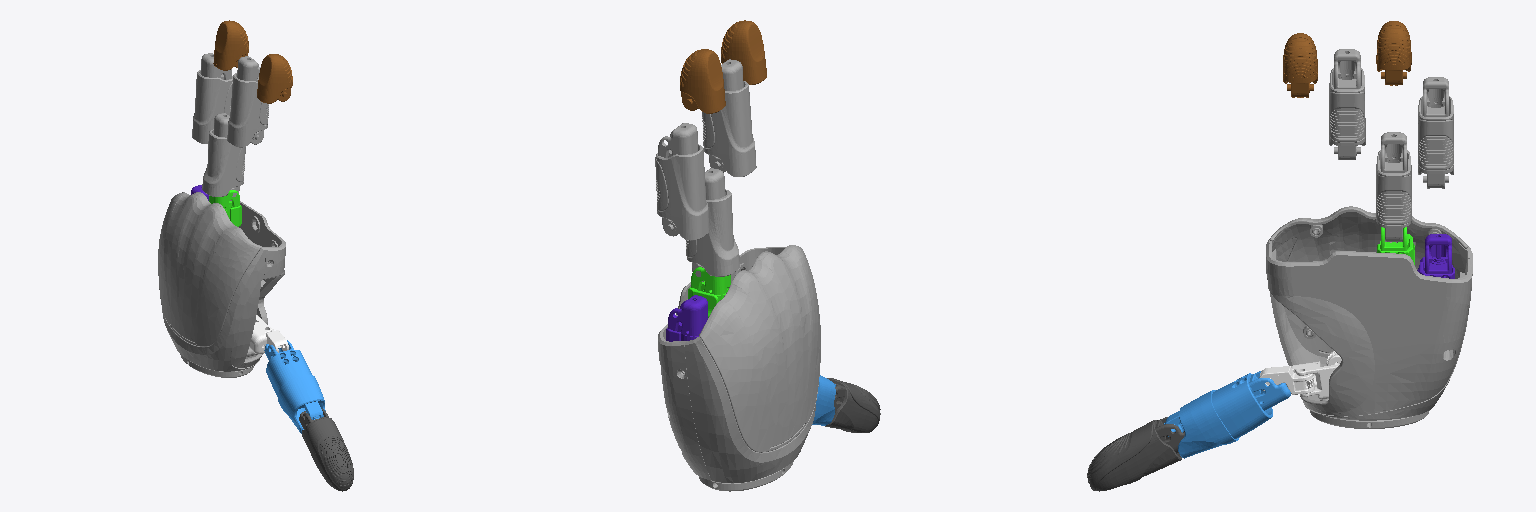
The robot description file, URDF, robot "linkerhand_O30i_left_draft_v8_thumb_calibrated":
<?xml version='1.0' encoding='utf-8'?>
<robot name="linkerhand_O30i_left_draft_v8_thumb_calibrated">
  <!-- Mirror of accepted right draft_v8 thumb calibration across Y=0. Zero, travel and base mounting corrections are reflected together. Joint limits and SDK 0..255 linear mapping are identical to the right hand. Paired mirrored STL files are in meshes; supplied meshes are preserved. -->
  <link name="hand_base_link">
    <inertial>
      <origin xyz="-0.000205958913345674 0.0036188278010726399 0.046864317399317103" rpy="-0 0 -0" />
      <mass value="0.14359" />
      <inertia ixx="1.88028388E-04" ixy="1.7209298200000001e-06" ixz="-1.04409274E-05" iyy="9.30828141E-05" iyz="7.8262007999999992e-06" izz="1.07409180E-04" />
    </inertial>
    <visual>
      <origin xyz="0 -0 0" rpy="-0 0 -0" />
      <geometry>
        <mesh filename="meshes/hand_base_link.STL" />
      </geometry>
      <material name="">
        <color rgba="0.6902 0.6902 0.6902 1" />
      </material>
    </visual>
    <collision>
      <origin xyz="0 -0 0" rpy="-0 0 -0" />
      <geometry>
        <mesh filename="meshes/hand_base_link.STL" />
      </geometry>
    </collision>
  </link>
  <link name="thumb_metacarpals_base1">
    <inertial>
      <origin xyz="-0.010568785207338 -0.0068038984448099702 -0.0025009660529372599" rpy="-0 0 -0" />
      <mass value="0.0265" />
      <inertia ixx="1.7467491929e-06" ixy="2.9104436794e-07" ixz="-1.8568012190e-07" iyy="1.8654637315e-06" iyz="2.9174054644999998e-07" izz="2.5335744004e-06" />
    </inertial>
    <visual>
      <origin xyz="0 -0 0" rpy="-0 0 -0" />
      <geometry>
        <mesh filename="meshes/thumb_metacarpals_base1.STL" />
      </geometry>
      <material name="">
        <color rgba="1 1 1 1" />
      </material>
    </visual>
    <collision>
      <origin xyz="0 -0 0" rpy="-0 0 -0" />
      <geometry>
        <mesh filename="meshes/thumb_metacarpals_base1.STL" />
      </geometry>
    </collision>
  </link>
  <joint name="thumb_cmc_roll" type="revolute">
    <origin xyz="0.016863194376841441 -0.013541806637261389 0.024293269540780069" rpy="0.1528711128406792 -0.074140711782733959 0.0071398087914040231" />
    <parent link="hand_base_link" />
    <child link="thumb_metacarpals_base1" />
    <axis xyz="-1 0 -0" />
    <limit lower="0" upper="0.969565192376618" effort="0.5" velocity="1.7052" />
  </joint>
  <link name="thumb_metacarpals_base2">
    <inertial>
      <origin xyz="0.000380684134119496 0.0021173872826980899 0.0065793452473019301" rpy="-0 0 -0" />
      <mass value="0.0355" />
      <inertia ixx="1.3100602323e-06" ixy="2.6896858159999999e-09" ixz="7.2091170680e-09" iyy="1.2087410902e-06" iyz="-2.5929588125999998e-07" izz="5.0771300324e-07" />
    </inertial>
    <visual>
      <origin xyz="0 -0 0" rpy="-0 0 -0" />
      <geometry>
        <mesh filename="meshes/thumb_metacarpals_base2.STL" />
      </geometry>
      <material name="">
        <color rgba="1 1 1 1" />
      </material>
    </visual>
    <collision>
      <origin xyz="0 -0 0" rpy="-0 0 -0" />
      <geometry>
        <mesh filename="meshes/thumb_metacarpals_base2.STL" />
      </geometry>
    </collision>
  </link>
  <joint name="thumb_cmc_yaw" type="revolute">
    <origin xyz="-0.00215 -0.015238 5.0000000000000002e-05" rpy="1.5477041670264 -0.017432088997645149 -0.10139159280832991" />
    <parent link="thumb_metacarpals_base1" />
    <child link="thumb_metacarpals_base2" />
    <axis xyz="-0 1 -0" />
    <limit lower="0" upper="2.013907913050712" effort="0.5" velocity="1.871" />
  </joint>
  <link name="thumb_proximal">
    <inertial>
      <origin xyz="3.7766051563074802e-06 -0.0045380734189294399 0.024423205820164301" rpy="-0 0 -0" />
      <mass value="0.0485" />
      <inertia ixx="7.9213419017e-06" ixy="-6.3547157324000002e-10" ixz="9.3426941108e-10" iyy="7.2526849972e-06" iyz="-2.9039766095000001e-07" izz="4.3684910168e-06" />
    </inertial>
    <visual>
      <origin xyz="0 -0 0" rpy="-0 0 -0" />
      <geometry>
        <mesh filename="meshes/thumb_proximal.STL" />
      </geometry>
      <material name="">
        <color rgba="0.333333333333333 0.690196078431373 1 1" />
      </material>
    </visual>
    <collision>
      <origin xyz="0 -0 0" rpy="-0 0 -0" />
      <geometry>
        <mesh filename="meshes/thumb_proximal.STL" />
      </geometry>
    </collision>
  </link>
  <joint name="thumb_mcp" type="revolute">
    <origin xyz="0.00044999999999999999 0.0029437 0.015539000000000001" rpy="0.37960930271741827 0 -0" />
    <parent link="thumb_metacarpals_base2" />
    <child link="thumb_proximal" />
    <axis xyz="-1 0 -0" />
    <limit lower="0" upper="1.644228126223763" effort="0.5" velocity="2.3126" />
  </joint>
  <link name="thumb_distal">
    <inertial>
      <origin xyz="5.2796000000000002e-06 -0.0045592000000000002 0.020933" rpy="-0 0 -0" />
      <mass value="0.0291" />
      <inertia ixx="3.5639491678e-06" ixy="-1.2385839876999999e-10" ixz="-8.3144418980e-11" iyy="3.6415178270e-06" iyz="2.5032975166000001e-07" izz="1.5193398956e-06" />
    </inertial>
    <visual>
      <origin xyz="0 -0 0" rpy="-0 0 -0" />
      <geometry>
        <mesh filename="meshes/thumb_distal.STL" />
      </geometry>
      <material name="">
        <color rgba="0.4 0.4 0.4 1" />
      </material>
    </visual>
    <collision>
      <origin xyz="0 -0 0" rpy="-0 0 -0" />
      <geometry>
        <mesh filename="meshes/thumb_distal.STL" />
      </geometry>
    </collision>
  </link>
  <joint name="thumb_ip" type="revolute">
    <origin xyz="0 -0.00014469999999999999 0.048557000000000003" rpy="-0.02124385637982909 0 -0" />
    <parent link="thumb_proximal" />
    <child link="thumb_distal" />
    <axis xyz="-1 0 -0" />
    <limit lower="0" upper="1.350226641244871" effort="0.5" velocity="1.9897" />
  </joint>
  <link name="index_metacarpals">
    <inertial>
      <origin xyz="-0.0106040258094052 5.1395389448188201e-05 -0.0013615181944274901" rpy="-0 0 -0" />
      <mass value="0.0588" />
      <inertia ixx="4.0339E-06" ixy="-1.4821e-07" ixz="-1.1267E-07" iyy="4.7173E-06" iyz="-4.0633000000000002e-09" izz="2.2812E-06" />
    </inertial>
    <visual>
      <origin xyz="0 -0 0" rpy="-0 0 -0" />
      <geometry>
        <mesh filename="meshes/index_metacarpals.STL" />
      </geometry>
      <material name="">
        <color rgba="0.286274509803922 1 0.196078431372549 1" />
      </material>
    </visual>
    <collision>
      <origin xyz="0 -0 0" rpy="-0 0 -0" />
      <geometry>
        <mesh filename="meshes/index_metacarpals.STL" />
      </geometry>
    </collision>
  </link>
  <joint name="index_mcp_roll" type="revolute">
    <origin xyz="0.018721999999999999 -0.029679000000000001 0.075158000000000003" rpy="-0 0 -0" />
    <parent link="hand_base_link" />
    <child link="index_metacarpals" />
    <axis xyz="-1 0 -0" />
    <limit lower="-0.489063104038013" upper="0" effort="0.5" velocity="1.6057" />
  </joint>
  <link name="index_proximal">
    <inertial>
      <origin xyz="-0.0043709621275503999 -2.1638533315982602e-05 0.021606316326568099" rpy="-0 0 -0" />
      <mass value="0.0287" />
      <inertia ixx="2.6023E-06" ixy="-4.5528999999999999e-10" ixz="-9.6076E-08" iyy="2.7888E-06" iyz="6.9340999999999999e-10" izz="1.2550E-06" />
    </inertial>
    <visual>
      <origin xyz="0 -0 0" rpy="-0 0 -0" />
      <geometry>
        <mesh filename="meshes/index_proximal.STL" />
      </geometry>
      <material name="">
        <color rgba="0.690196078431373 0.690196078431373 0.690196078431373 1" />
      </material>
    </visual>
    <collision>
      <origin xyz="0 -0 0" rpy="-0 0 -0" />
      <geometry>
        <mesh filename="meshes/index_proximal.STL" />
      </geometry>
    </collision>
  </link>
  <joint name="index_mcp_pitch" type="revolute">
    <origin xyz="-0.0047499999999999999 -0.00059586999999999997 0.016237999999999999" rpy="-0 0.13272054362240199 -0" />
    <parent link="index_metacarpals" />
    <child link="index_proximal" />
    <axis xyz="-0 1 -0" />
    <limit lower="0" upper="1.63746311220812" effort="0.5" velocity="2.3876" />
  </joint>
  <link name="index_middle">
    <inertial>
      <origin xyz="-0.0041282948937489501 -4.3393512984889901e-05 0.0217078554898162" rpy="-0 0 -0" />
      <mass value="0.029" />
      <inertia ixx="2.8996E-06" ixy="-4.2866999999999998e-10" ixz="-3.1433E-08" iyy="3.0975E-06" iyz="-2.9280000000000001e-10" izz="1.2654E-06" />
    </inertial>
    <visual>
      <origin xyz="0 -0 0" rpy="-0 0 -0" />
      <geometry>
        <mesh filename="meshes/index_middle.STL" />
      </geometry>
      <material name="">
        <color rgba="0.690196078431373 0.690196078431373 0.690196078431373 1" />
      </material>
    </visual>
    <collision>
      <origin xyz="0 -0 0" rpy="-0 0 -0" />
      <geometry>
        <mesh filename="meshes/index_middle.STL" />
      </geometry>
    </collision>
  </link>
  <joint name="index_pip" type="revolute">
    <origin xyz="0 -0 0.039681000000000001" rpy="-0 -0.043443797429210299 -0" />
    <parent link="index_proximal" />
    <child link="index_middle" />
    <axis xyz="-0 1 -0" />
    <limit lower="0" upper="1.58587631576265" effort="0.5" velocity="1.9949" />
  </joint>
  <link name="index_distal">
    <inertial>
      <origin xyz="-0.0040526059293367698 -2.9201064239200301e-05 0.0113571507781909" rpy="-0 0 -0" />
      <mass value="0.006" />
      <inertia ixx="2.9730E-07" ixy="6.2547e-12" ixz="-1.6758E-08" iyy="3.1683E-07" iyz="-6.8823000000000003e-12" izz="2.0775E-07" />
    </inertial>
    <visual>
      <origin xyz="0 -0 0" rpy="-0 0 -0" />
      <geometry>
        <mesh filename="meshes/index_distal.STL" />
      </geometry>
      <material name="">
        <color rgba="0.6 0.4 0.2 1" />
      </material>
    </visual>
    <collision>
      <origin xyz="0 -0 0" rpy="-0 0 -0" />
      <geometry>
        <mesh filename="meshes/index_distal.STL" />
      </geometry>
    </collision>
  </link>
  <joint name="index_dip" type="revolute">
    <origin xyz="0 -0 0.040244000000000002" rpy="-0 0 -0" />
    <parent link="index_middle" />
    <child link="index_distal" />
    <axis xyz="-0 1 -0" />
    <limit lower="0" upper="1.59818252687602" effort="0.5" velocity="2.1869" />
  </joint>
  <link name="middle_metacarpals">
    <inertial>
      <origin xyz="-0.010604025809380101 5.1395389513530898e-05 -0.0013615181946221399" rpy="-0 0 -0" />
      <mass value="0.0588" />
      <inertia ixx="4.0339E-06" ixy="-1.4821e-07" ixz="-1.1267E-07" iyy="4.7173E-06" iyz="-4.0633000000000002e-09" izz="2.2812E-06" />
    </inertial>
    <visual>
      <origin xyz="0 -0 0" rpy="-0 0 -0" />
      <geometry>
        <mesh filename="meshes/middle_metacarpals.STL" />
      </geometry>
      <material name="">
        <color rgba="0.4 0.2 0.8 1" />
      </material>
    </visual>
    <collision>
      <origin xyz="0 -0 0" rpy="-0 0 -0" />
      <geometry>
        <mesh filename="meshes/middle_metacarpals.STL" />
      </geometry>
    </collision>
  </link>
  <joint name="middle_mcp_roll" type="revolute">
    <origin xyz="0.018721999999999999 -0.0086937000000000004 0.081586000000000006" rpy="-0 0 -0" />
    <parent link="hand_base_link" />
    <child link="middle_metacarpals" />
    <axis xyz="-1 0 -0" />
    <limit lower="-0.534273188787818" upper="0.166189293512357" effort="0.5" velocity="1.6074" />
  </joint>
  <link name="middle_proximal">
    <inertial>
      <origin xyz="-0.0043709621145399096 -2.16385377681651e-05 0.021606316263903001" rpy="-0 0 -0" />
      <mass value="0.0287" />
      <inertia ixx="2.6023E-06" ixy="-4.5528999999999999e-10" ixz="-9.6076E-08" iyy="2.7888E-06" iyz="6.9340999999999999e-10" izz="1.2550E-06" />
    </inertial>
    <visual>
      <origin xyz="0 -0 0" rpy="-0 0 -0" />
      <geometry>
        <mesh filename="meshes/middle_proximal.STL" />
      </geometry>
      <material name="">
        <color rgba="0.690196078431373 0.690196078431373 0.690196078431373 1" />
      </material>
    </visual>
    <collision>
      <origin xyz="0 -0 0" rpy="-0 0 -0" />
      <geometry>
        <mesh filename="meshes/middle_proximal.STL" />
      </geometry>
    </collision>
  </link>
  <joint name="middle_mcp_pitch" type="revolute">
    <origin xyz="-0.0047499999999999999 -0.00059586999999999997 0.016237999999999999" rpy="-0 0.088897064128846195 -0" />
    <parent link="middle_metacarpals" />
    <child link="middle_proximal" />
    <axis xyz="-0 1 -0" />
    <limit lower="0" upper="1.70966991193413" effort="0.5" velocity="2.3876" />
  </joint>
  <link name="middle_middle">
    <inertial>
      <origin xyz="-0.0041649119089275204 -4.53802720945468e-05 0.0183968023027694" rpy="-0 0 -0" />
      <mass value="0.029" />
      <inertia ixx="3.2385E-06" ixy="-7.7205999999999992e-12" ixz="5.0460E-08" iyy="3.4426E-06" iyz="1.0149e-10" izz="1.3101E-06" />
    </inertial>
    <visual>
      <origin xyz="0 -0 0" rpy="-0 0 -0" />
      <geometry>
        <mesh filename="meshes/middle_middle.STL" />
      </geometry>
      <material name="">
        <color rgba="0.690196078431373 0.690196078431373 0.690196078431373 1" />
      </material>
    </visual>
    <collision>
      <origin xyz="0 -0 0" rpy="-0 0 -0" />
      <geometry>
        <mesh filename="meshes/middle_middle.STL" />
      </geometry>
    </collision>
  </link>
  <joint name="middle_pip" type="revolute">
    <origin xyz="0 -0 0.039681000000000001" rpy="-0 -0.0229603897007753 -0" />
    <parent link="middle_proximal" />
    <child link="middle_middle" />
    <axis xyz="-0 1 -0" />
    <limit lower="0" upper="1.57618217208514" effort="0.5" velocity="1.9949" />
  </joint>
  <link name="middle_distal">
    <inertial>
      <origin xyz="-0.0040526080066767001 -2.9201539777414101e-05 0.0113571741521581" rpy="-0 0 -0" />
      <mass value="0.006" />
      <inertia ixx="2.9730E-07" ixy="6.1597999999999997e-12" ixz="-1.6758E-08" iyy="3.1683E-07" iyz="-6.9875999999999998e-12" izz="2.0775E-07" />
    </inertial>
    <visual>
      <origin xyz="0 -0 0" rpy="-0 0 -0" />
      <geometry>
        <mesh filename="meshes/middle_distal.STL" />
      </geometry>
      <material name="">
        <color rgba="0.6 0.4 0.2 1" />
      </material>
    </visual>
    <collision>
      <origin xyz="0 -0 0" rpy="-0 0 -0" />
      <geometry>
        <mesh filename="meshes/middle_distal.STL" />
      </geometry>
    </collision>
  </link>
  <joint name="middle_dip" type="revolute">
    <origin xyz="0 -0 0.040244000000000002" rpy="-0 0 -0" />
    <parent link="middle_middle" />
    <child link="middle_distal" />
    <axis xyz="-0 1 -0" />
    <limit lower="0" upper="1.58769158285047" effort="0.5" velocity="2.1869" />
  </joint>
  <link name="ring_metacarpals">
    <inertial>
      <origin xyz="-0.0106040258039409 5.1395387566939599e-05 -0.0013615181947445299" rpy="-0 0 -0" />
      <mass value="0.0588" />
      <inertia ixx="4.0339E-06" ixy="-1.4821e-07" ixz="-1.1267E-07" iyy="4.7173E-06" iyz="-4.0633000000000002e-09" izz="2.2812E-06" />
    </inertial>
    <visual>
      <origin xyz="0 -0 0" rpy="-0 0 -0" />
      <geometry>
        <mesh filename="meshes/ring_metacarpals.STL" />
      </geometry>
      <material name="">
        <color rgba="0.286274509803922 1 0.196078431372549 1" />
      </material>
    </visual>
    <collision>
      <origin xyz="0 -0 0" rpy="-0 0 -0" />
      <geometry>
        <mesh filename="meshes/ring_metacarpals.STL" />
      </geometry>
    </collision>
  </link>
  <joint name="ring_mcp_roll" type="revolute">
    <origin xyz="0.018721999999999999 0.012187999999999999 0.079217999999999997" rpy="-0 0 -0" />
    <parent link="hand_base_link" />
    <child link="ring_metacarpals" />
    <axis xyz="-1 0 -0" />
    <limit lower="-0.312481559876992" upper="0.264799642906355" effort="0.5" velocity="1.6179" />
  </joint>
  <link name="ring_proximal">
    <inertial>
      <origin xyz="-0.0043709621284810799 -2.1638533212672798e-05 0.021606316332743802" rpy="-0 0 -0" />
      <mass value="0.0287" />
      <inertia ixx="2.6023E-06" ixy="-4.5528999999999999e-10" ixz="-9.6076E-08" iyy="2.7888E-06" iyz="6.9340999999999999e-10" izz="1.2550E-06" />
    </inertial>
    <visual>
      <origin xyz="0 -0 0" rpy="-0 0 -0" />
      <geometry>
        <mesh filename="meshes/ring_proximal.STL" />
      </geometry>
      <material name="">
        <color rgba="0.690196078431373 0.690196078431373 0.690196078431373 1" />
      </material>
    </visual>
    <collision>
      <origin xyz="0 -0 0" rpy="-0 0 -0" />
      <geometry>
        <mesh filename="meshes/ring_proximal.STL" />
      </geometry>
    </collision>
  </link>
  <joint name="ring_mcp_pitch" type="revolute">
    <origin xyz="-0.0047499999999999999 -0.00059586999999999997 0.016237999999999999" rpy="-0 0.066296498687652194 -0" />
    <parent link="ring_metacarpals" />
    <child link="ring_proximal" />
    <axis xyz="-0 1 -0" />
    <limit lower="0" upper="1.70230981563413" effort="0.5" velocity="2.3876" />
  </joint>
  <link name="ring_middle">
    <inertial>
      <origin xyz="-0.0041649119283848103 -4.5380266308656797e-05 0.0183968024169422" rpy="-0 0 -0" />
      <mass value="0.029" />
      <inertia ixx="3.2385E-06" ixy="-7.7208e-12" ixz="5.0460E-08" iyy="3.4426E-06" iyz="1.0149e-10" izz="1.3101E-06" />
    </inertial>
    <visual>
      <origin xyz="0 -0 0" rpy="-0 0 -0" />
      <geometry>
        <mesh filename="meshes/ring_middle.STL" />
      </geometry>
      <material name="">
        <color rgba="0.690196078431373 0.690196078431373 0.690196078431373 1" />
      </material>
    </visual>
    <collision>
      <origin xyz="0 -0 0" rpy="-0 0 -0" />
      <geometry>
        <mesh filename="meshes/ring_middle.STL" />
      </geometry>
    </collision>
  </link>
  <joint name="ring_pip" type="revolute">
    <origin xyz="0 -0 0.039681000000000001" rpy="-0 -0.0017317306475761499 -0" />
    <parent link="ring_proximal" />
    <child link="ring_middle" />
    <axis xyz="-0 1 -0" />
    <limit lower="0" upper="1.60012880743153" effort="0.5" velocity="1.9949" />
  </joint>
  <link name="ring_distal">
    <inertial>
      <origin xyz="-0.0040526074256839297 -2.9198426588248501e-05 0.011357161810390501" rpy="-0 0 -0" />
      <mass value="0.006" />
      <inertia ixx="2.9730E-07" ixy="6.3645000000000002e-12" ixz="-1.6758E-08" iyy="3.1683E-07" iyz="-6.8842000000000001e-12" izz="2.0775E-07" />
    </inertial>
    <visual>
      <origin xyz="0 -0 0" rpy="-0 0 -0" />
      <geometry>
        <mesh filename="meshes/ring_distal.STL" />
      </geometry>
      <material name="">
        <color rgba="0.6 0.4 0.2 1" />
      </material>
    </visual>
    <collision>
      <origin xyz="0 -0 0" rpy="-0 0 -0" />
      <geometry>
        <mesh filename="meshes/ring_distal.STL" />
      </geometry>
    </collision>
  </link>
  <joint name="ring_dip" type="revolute">
    <origin xyz="0 -0 0.040244000000000002" rpy="-0 0 -0" />
    <parent link="ring_middle" />
    <child link="ring_distal" />
    <axis xyz="-0 1 -0" />
    <limit lower="0" upper="1.64670287164736" effort="0.5" velocity="2.1869" />
  </joint>
  <link name="pinky_metacarpals">
    <inertial>
      <origin xyz="-0.0106040258039376 5.1395387594410599e-05 -0.0013615181947681399" rpy="-0 0 -0" />
      <mass value="0.0588" />
      <inertia ixx="4.0339E-06" ixy="-1.4821e-07" ixz="-1.1267E-07" iyy="4.7173E-06" iyz="-4.0633000000000002e-09" izz="2.2812E-06" />
    </inertial>
    <visual>
      <origin xyz="0 -0 0" rpy="-0 0 -0" />
      <geometry>
        <mesh filename="meshes/pinky_metacarpals.STL" />
      </geometry>
      <material name="">
        <color rgba="0.4 0.2 0.8 1" />
      </material>
    </visual>
    <collision>
      <origin xyz="0 -0 0" rpy="-0 0 -0" />
      <geometry>
        <mesh filename="meshes/pinky_metacarpals.STL" />
      </geometry>
    </collision>
  </link>
  <joint name="pinky_mcp_roll" type="revolute">
    <origin xyz="0.018721999999999999 0.030927 0.067761000000000002" rpy="-0 0 -0" />
    <parent link="hand_base_link" />
    <child link="pinky_metacarpals" />
    <axis xyz="-1 0 -0" />
    <limit lower="-0.104645842698925" upper="0.310256874097415" effort="0.5" velocity="1.4748" />
  </joint>
  <link name="pinky_proximal">
    <inertial>
      <origin xyz="-0.0043709621149716901 -2.1638537477212902e-05 0.021606316265953399" rpy="-0 0 -0" />
      <mass value="0.0287" />
      <inertia ixx="2.6023E-06" ixy="-4.5528999999999999e-10" ixz="-9.6076E-08" iyy="2.7888E-06" iyz="6.9340999999999999e-10" izz="1.2550E-06" />
    </inertial>
    <visual>
      <origin xyz="0 -0 0" rpy="-0 0 -0" />
      <geometry>
        <mesh filename="meshes/pinky_proximal.STL" />
      </geometry>
      <material name="">
        <color rgba="0.690196078431373 0.690196078431373 0.690196078431373 1" />
      </material>
    </visual>
    <collision>
      <origin xyz="0 -0 0" rpy="-0 0 -0" />
      <geometry>
        <mesh filename="meshes/pinky_proximal.STL" />
      </geometry>
    </collision>
  </link>
  <joint name="pinky_mcp_pitch" type="revolute">
    <origin xyz="-0.0047499999999999999 -0.00059586999999999997 0.016237999999999999" rpy="-0 0.099592550732162902 -0" />
    <parent link="pinky_metacarpals" />
    <child link="pinky_proximal" />
    <axis xyz="-0 1 -0" />
    <limit lower="0" upper="1.70035500744408" effort="0.5" velocity="2.3876" />
  </joint>
  <link name="pinky_middle">
    <inertial>
      <origin xyz="-0.0041282948891209603 -4.3393500462979302e-05 0.0217078554135159" rpy="-0 0 -0" />
      <mass value="0.029" />
      <inertia ixx="2.8996E-06" ixy="-4.2866999999999998e-10" ixz="-3.1433E-08" iyy="3.0975E-06" iyz="-2.9280000000000001e-10" izz="1.2654E-06" />
    </inertial>
    <visual>
      <origin xyz="0 -0 0" rpy="-0 0 -0" />
      <geometry>
        <mesh filename="meshes/pinky_middle.STL" />
      </geometry>
      <material name="">
        <color rgba="0.690196078431373 0.690196078431373 0.690196078431373 1" />
      </material>
    </visual>
    <collision>
      <origin xyz="0 -0 0" rpy="-0 0 -0" />
      <geometry>
        <mesh filename="meshes/pinky_middle.STL" />
      </geometry>
    </collision>
  </link>
  <joint name="pinky_pip" type="revolute">
    <origin xyz="0 -0 0.039681000000000001" rpy="-0 -0.053783238000297398 -0" />
    <parent link="pinky_proximal" />
    <child link="pinky_middle" />
    <axis xyz="-0 1 -0" />
    <limit lower="0" upper="1.59051065570363" effort="0.5" velocity="1.9949" />
  </joint>
  <link name="pinky_distal">
    <inertial>
      <origin xyz="-0.0040525988677599604 -2.91983586506936e-05 0.0113571520424041" rpy="-0 0 -0" />
      <mass value="0.006" />
      <inertia ixx="2.9730E-07" ixy="6.1745000000000004e-12" ixz="-1.6757E-08" iyy="3.1683E-07" iyz="-6.8171000000000001e-12" izz="2.0775E-07" />
    </inertial>
    <visual>
      <origin xyz="0 -0 0" rpy="-0 0 -0" />
      <geometry>
        <mesh filename="meshes/pinky_distal.STL" />
      </geometry>
      <material name="">
        <color rgba="0.6 0.4 0.2 1" />
      </material>
    </visual>
    <collision>
      <origin xyz="0 -0 0" rpy="-0 0 -0" />
      <geometry>
        <mesh filename="meshes/pinky_distal.STL" />
      </geometry>
    </collision>
  </link>
  <joint name="pinky_dip" type="revolute">
    <origin xyz="0 -0 0.040244000000000002" rpy="-0 0 -0" />
    <parent link="pinky_middle" />
    <child link="pinky_distal" />
    <axis xyz="-0 1 -0" />
    <limit lower="0" upper="1.66504401081645" effort="0.5" velocity="2.1869" />
  </joint>
</robot>

--- Render facts (derived) ---
3 views of the same robot in one strip: view 1: azimuth 30°, elevation 25°; view 2: azimuth 150°, elevation 25°; view 3: azimuth 270°, elevation 25° (orthographic).
Model linkerhand_O30i_left_draft_v8_thumb_calibrated with 21 links and 20 joints (20 revolute), rooted at hand_base_link, posed every joint at zero.
Visible links, largest first — view 1: hand_base_link, thumb_proximal, middle_middle, thumb_distal, ring_proximal, pinky_middle, index_distal, ring_distal, ring_metacarpals; view 2: hand_base_link, pinky_middle, middle_middle, ring_proximal, ring_distal, thumb_distal, index_distal, pinky_metacarpals, ring_metacarpals, thumb_proximal; view 3: hand_base_link, thumb_proximal, thumb_distal, middle_middle, pinky_middle, ring_proximal, index_distal, ring_distal, pinky_metacarpals, thumb_metacarpals_base1, thumb_metacarpals_base2, ring_metacarpals.
Boxes of the visible links, left/top/right/bottom form: hand_base_link: left=158, top=192, right=285, bottom=377; thumb_proximal: left=264, top=340, right=325, bottom=433; middle_middle: left=227, top=56, right=268, bottom=147; thumb_distal: left=299, top=408, right=353, bottom=491; ring_proximal: left=202, top=113, right=245, bottom=200; pinky_middle: left=192, top=53, right=232, bottom=143; index_distal: left=257, top=54, right=292, bottom=103; ring_distal: left=213, top=20, right=248, bottom=70; ring_metacarpals: left=209, top=190, right=241, bottom=226; hand_base_link: left=658, top=245, right=820, bottom=491; pinky_middle: left=655, top=123, right=709, bottom=240; middle_middle: left=702, top=59, right=756, bottom=176; ring_proximal: left=685, top=168, right=739, bottom=281; ring_distal: left=680, top=49, right=725, bottom=113; thumb_distal: left=825, top=378, right=880, bottom=432; index_distal: left=721, top=20, right=766, bottom=84; pinky_metacarpals: left=666, top=295, right=707, bottom=341; ring_metacarpals: left=688, top=267, right=730, bottom=317; thumb_proximal: left=812, top=375, right=835, bottom=425; hand_base_link: left=1266, top=206, right=1472, bottom=428; thumb_proximal: left=1164, top=371, right=1290, bottom=458; thumb_distal: left=1087, top=417, right=1184, bottom=491; middle_middle: left=1329, top=49, right=1365, bottom=159; pinky_middle: left=1418, top=77, right=1453, bottom=188; ring_proximal: left=1376, top=132, right=1411, bottom=242; index_distal: left=1283, top=33, right=1317, bottom=97; ring_distal: left=1376, top=21, right=1411, bottom=85; pinky_metacarpals: left=1417, top=234, right=1454, bottom=278; thumb_metacarpals_base1: left=1291, top=351, right=1341, bottom=399; thumb_metacarpals_base2: left=1259, top=366, right=1314, bottom=394; ring_metacarpals: left=1377, top=227, right=1414, bottom=264.
Size in the robot's own frame: 0.0519 by 0.1723 by 0.2322 metres.
Meshes: 21 distinct files referenced, 12 mesh visuals loaded (12 binary STL); not drawn: 9 (reference not matched to a file when rendering).
